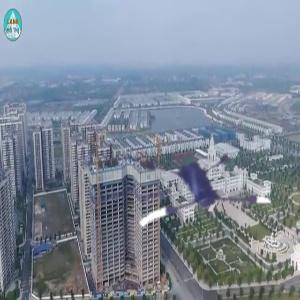drone: (114, 120, 260, 266)
